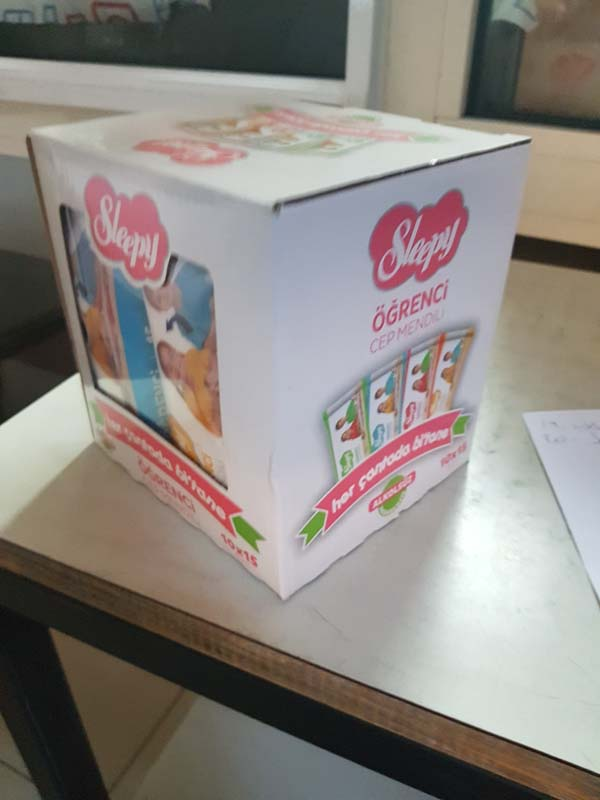sleepyogrencikoli: (18, 83, 543, 618)
